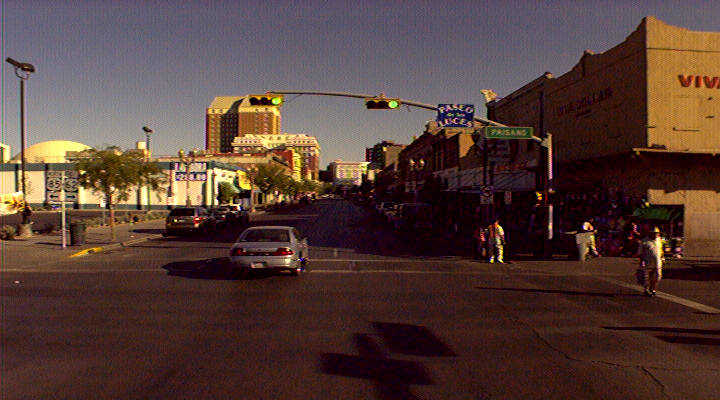Ramp: (500, 251, 676, 280), (1, 238, 86, 269)
